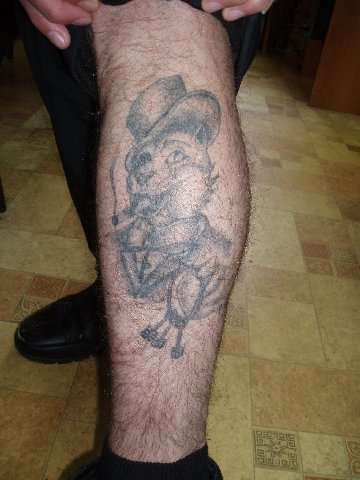tatu8_kot: (104, 59, 233, 364)
